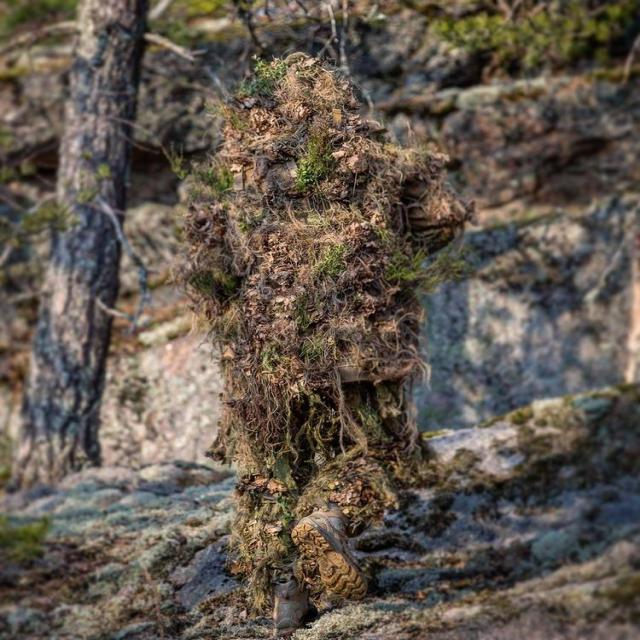Camouflage: (183, 52, 474, 627)
